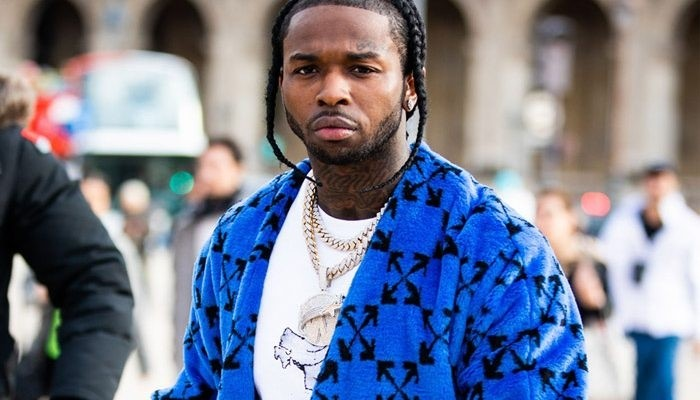face_no_mask: (270, 2, 427, 165)
